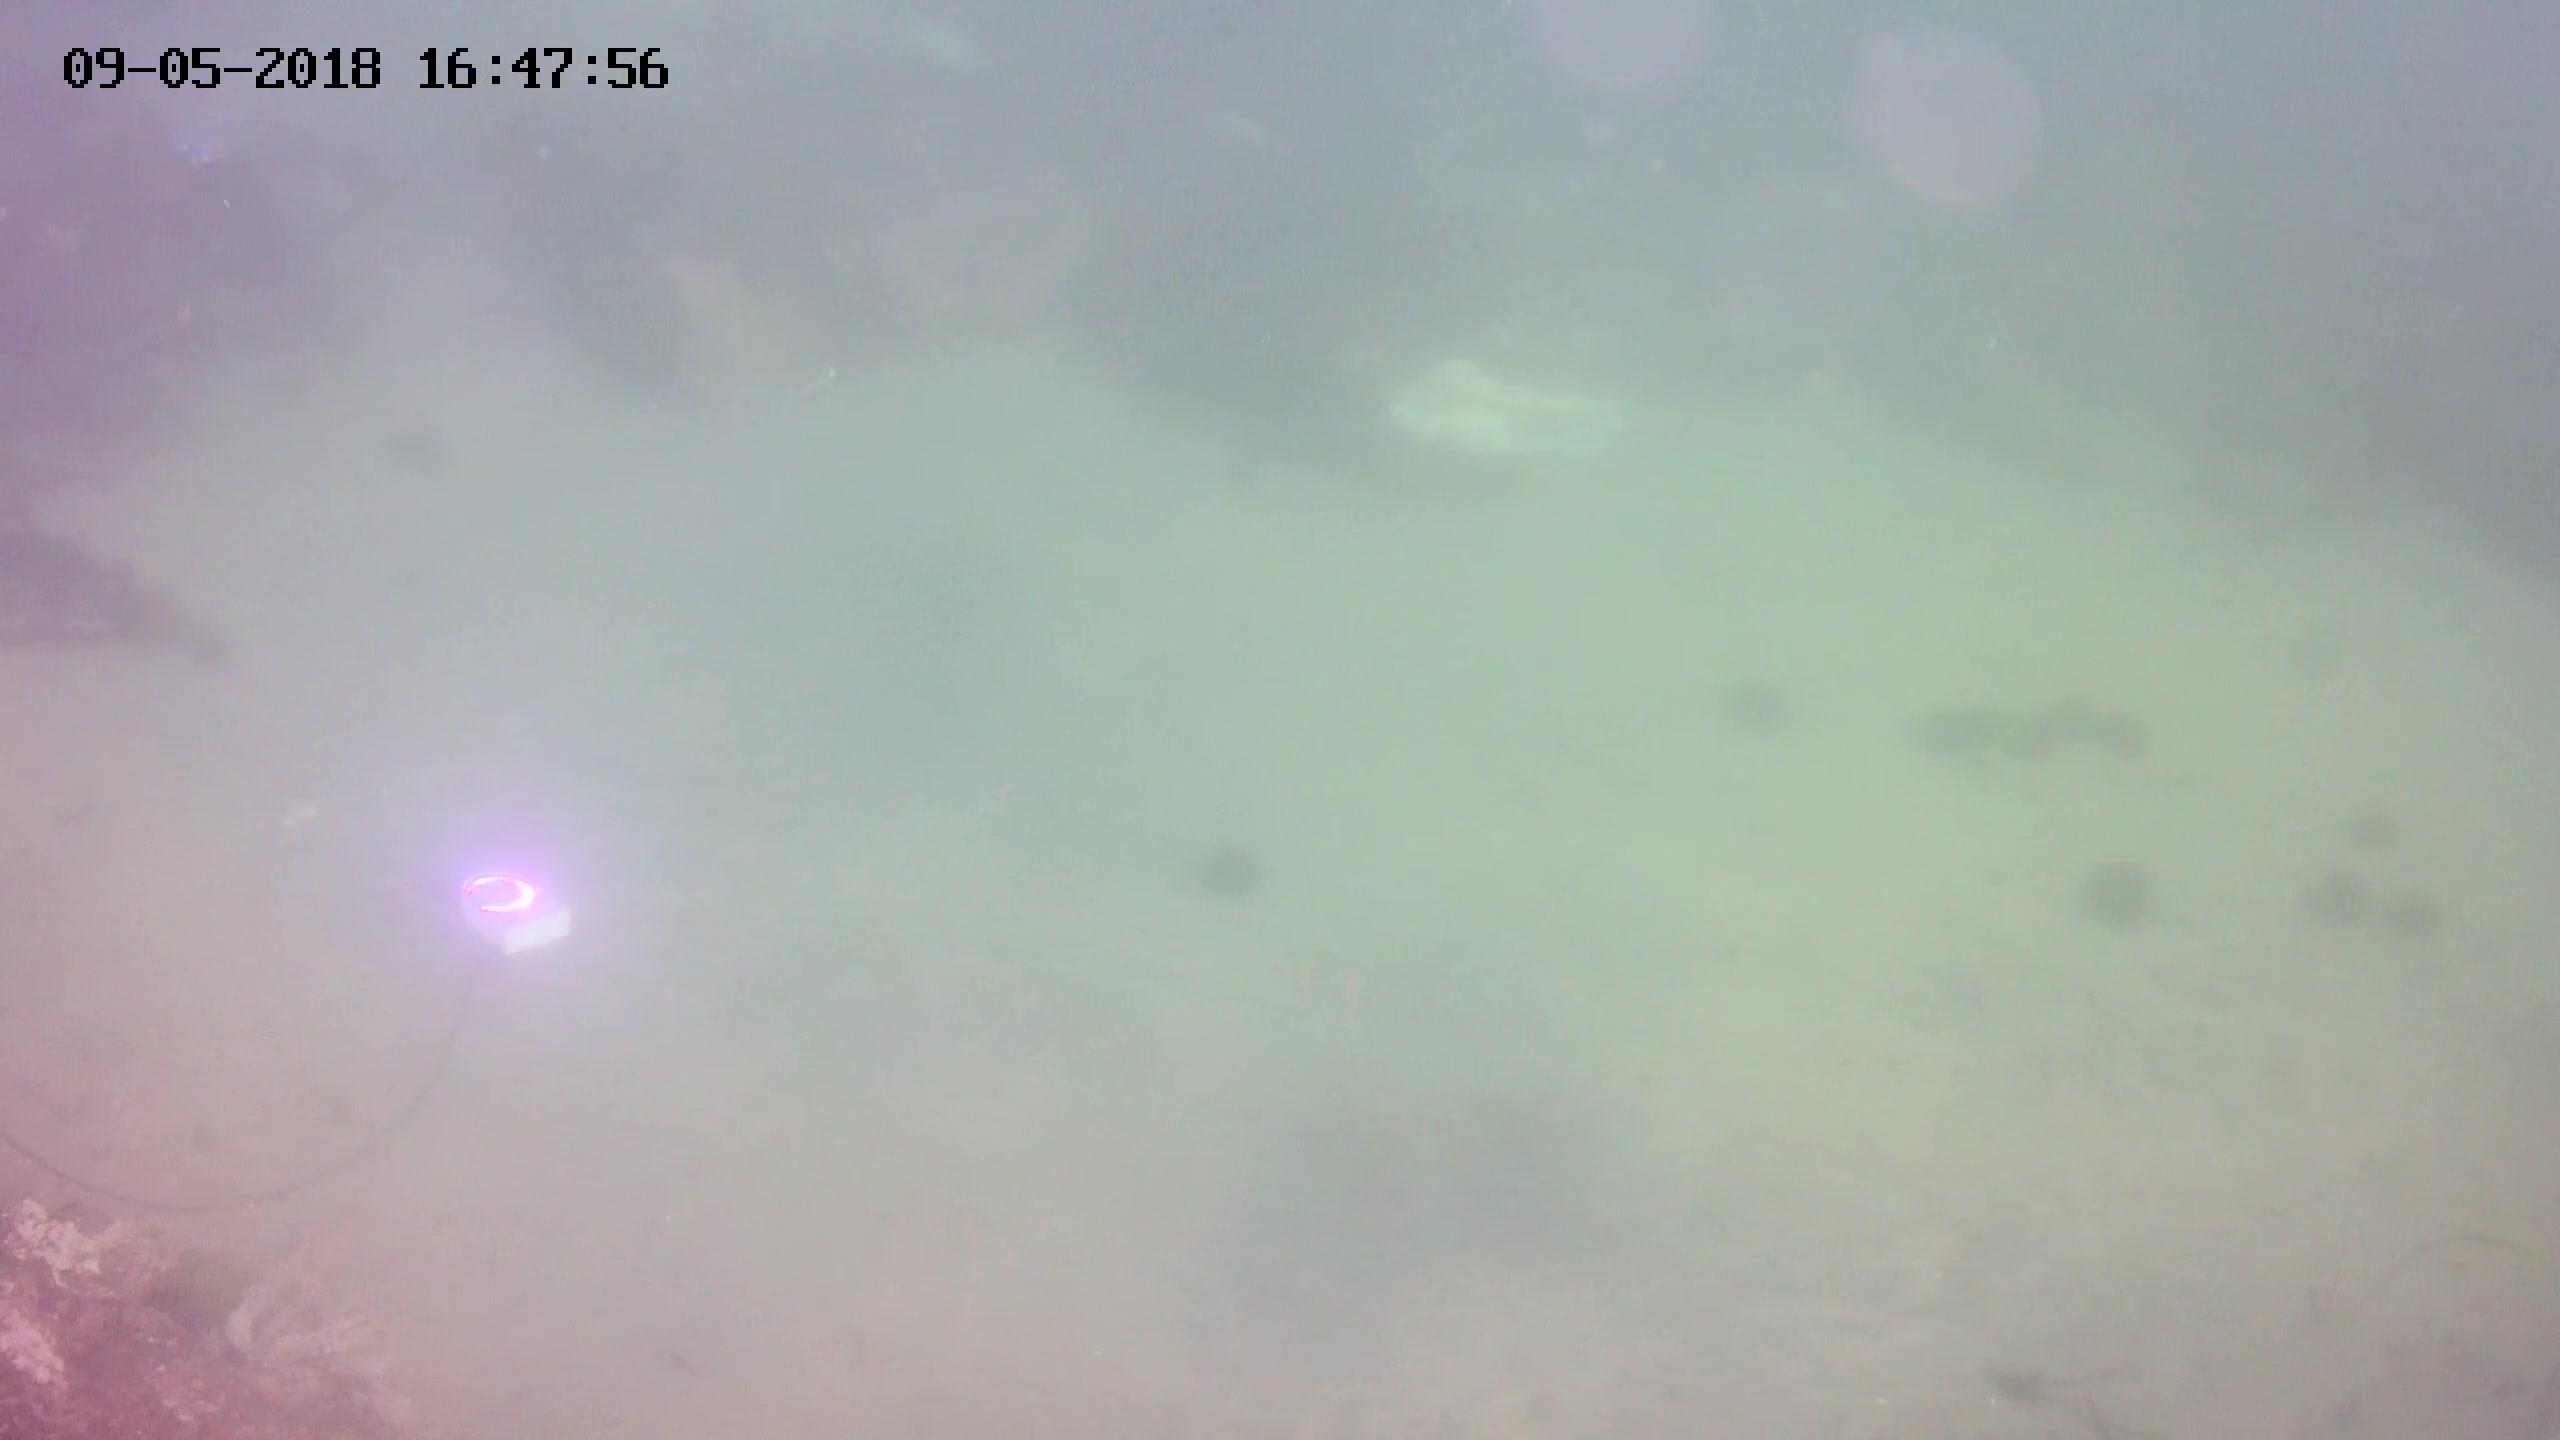echinus: (1721, 665, 1793, 742), (1999, 698, 2076, 768), (1908, 693, 1989, 758), (1199, 828, 1266, 900), (2084, 855, 2147, 927), (2312, 863, 2374, 937), (2096, 702, 2157, 767), (2282, 617, 2347, 679), (2396, 891, 2444, 948), (2353, 811, 2402, 855)
